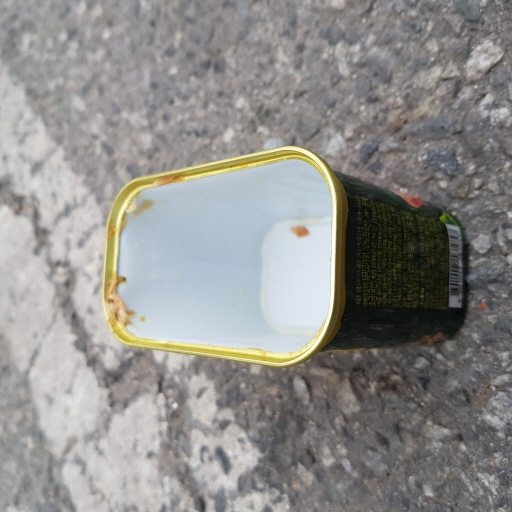Metal_2: (102, 148, 471, 370)
